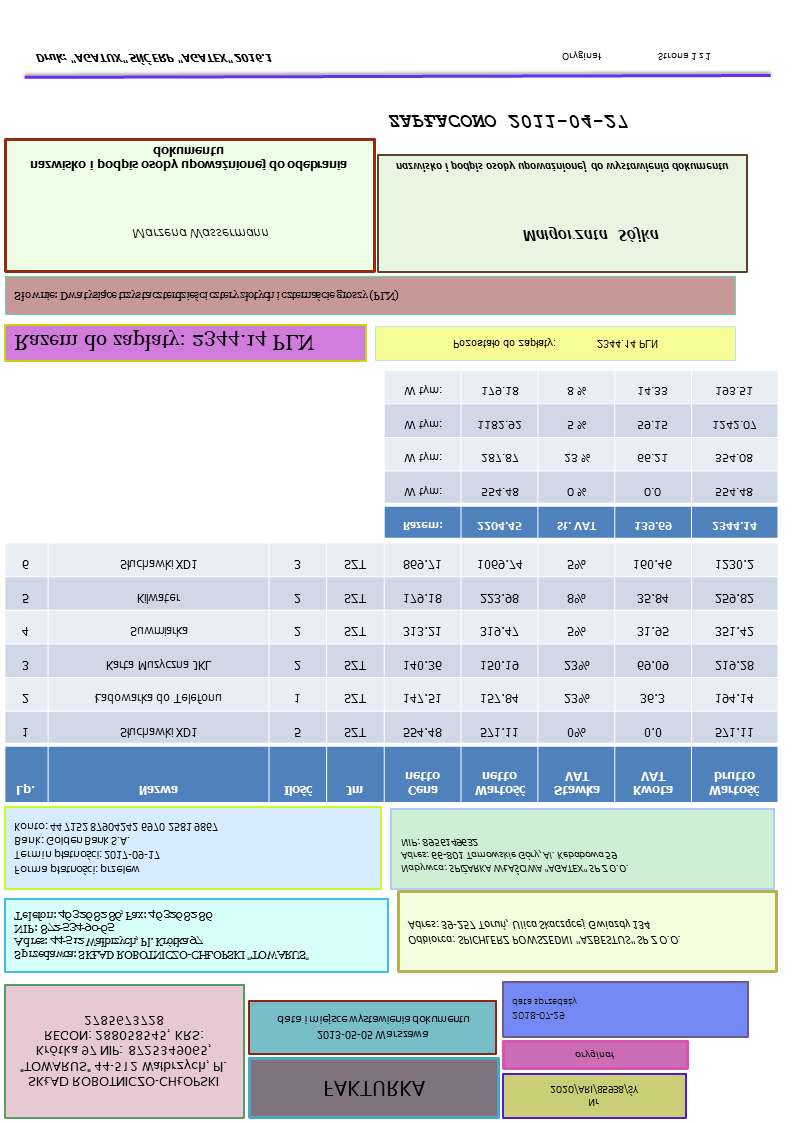Table: (3, 540, 780, 804), (383, 369, 779, 540)
TextBox: (11, 906, 311, 964), (18, 1011, 229, 1090), (11, 820, 219, 879), (397, 834, 631, 878), (26, 144, 351, 175), (404, 914, 683, 950), (12, 328, 316, 360), (12, 285, 400, 306), (393, 159, 731, 176), (275, 1013, 471, 1042), (386, 110, 629, 132), (449, 335, 661, 355), (34, 51, 274, 68), (558, 47, 715, 67), (520, 226, 660, 247), (548, 1081, 641, 1112), (128, 224, 272, 244), (320, 1077, 429, 1101), (510, 994, 578, 1024), (572, 1047, 616, 1064)
